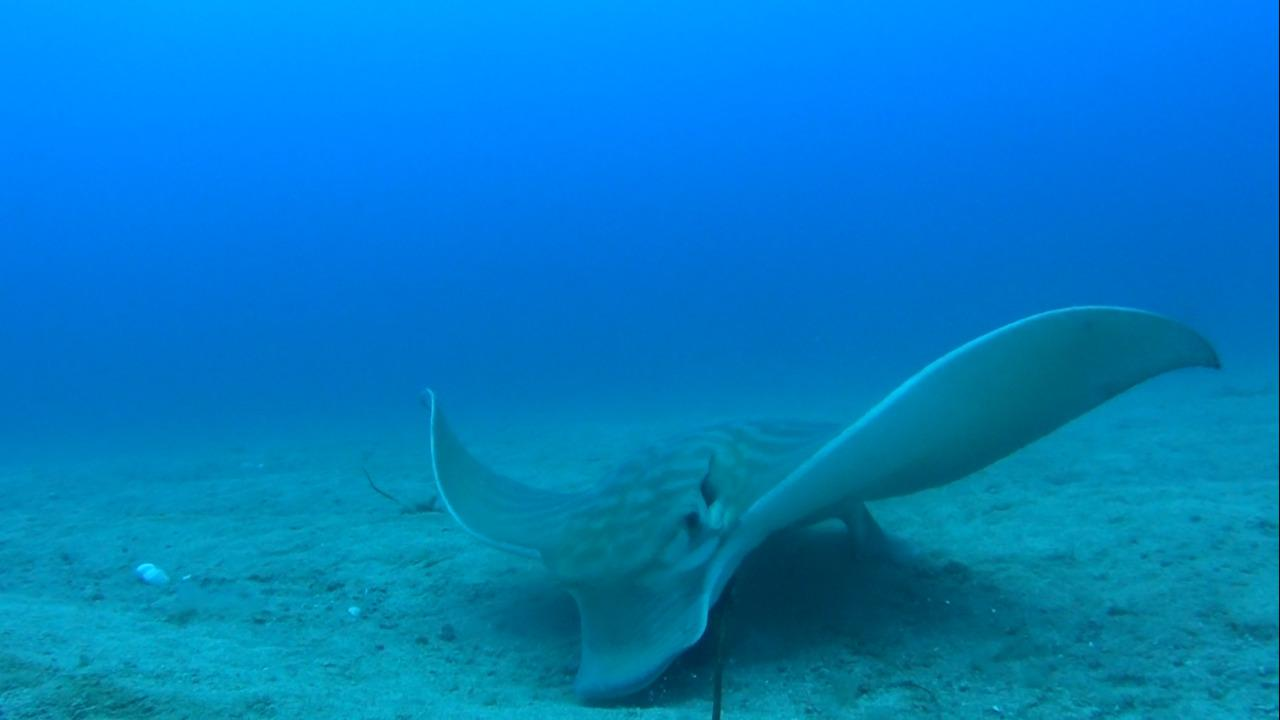myliobatis: (397, 300, 1226, 709)
